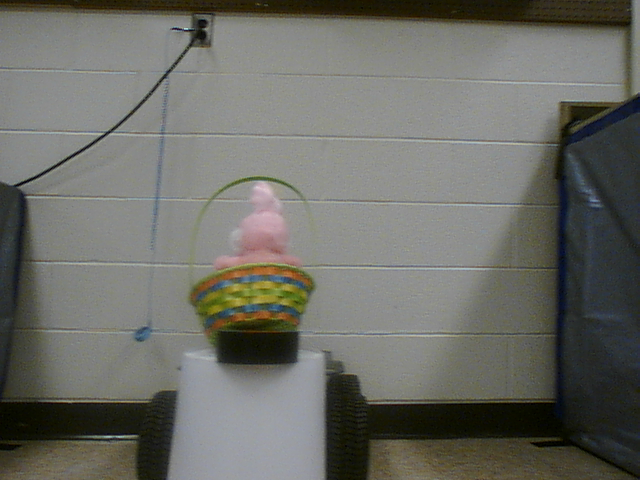bunny: (184, 168, 316, 349)
